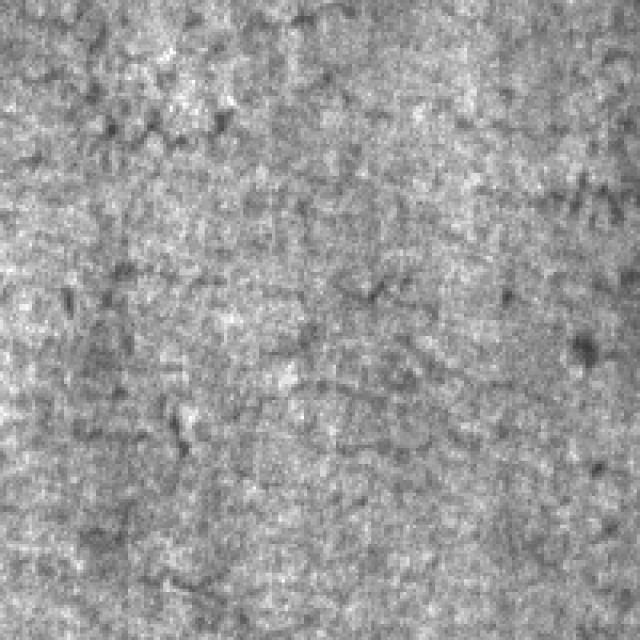crazing: (54, 252, 506, 458), (0, 0, 374, 141)
